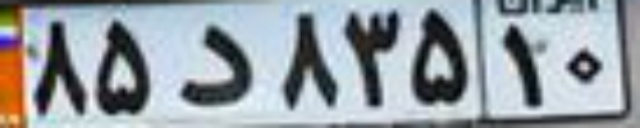0: (564, 49, 605, 84)
1: (496, 23, 542, 106)
3: (344, 8, 402, 106)
5: (93, 18, 153, 114), (410, 11, 468, 104)
8: (280, 10, 338, 109), (28, 21, 86, 116)
dal: (179, 23, 256, 108)
